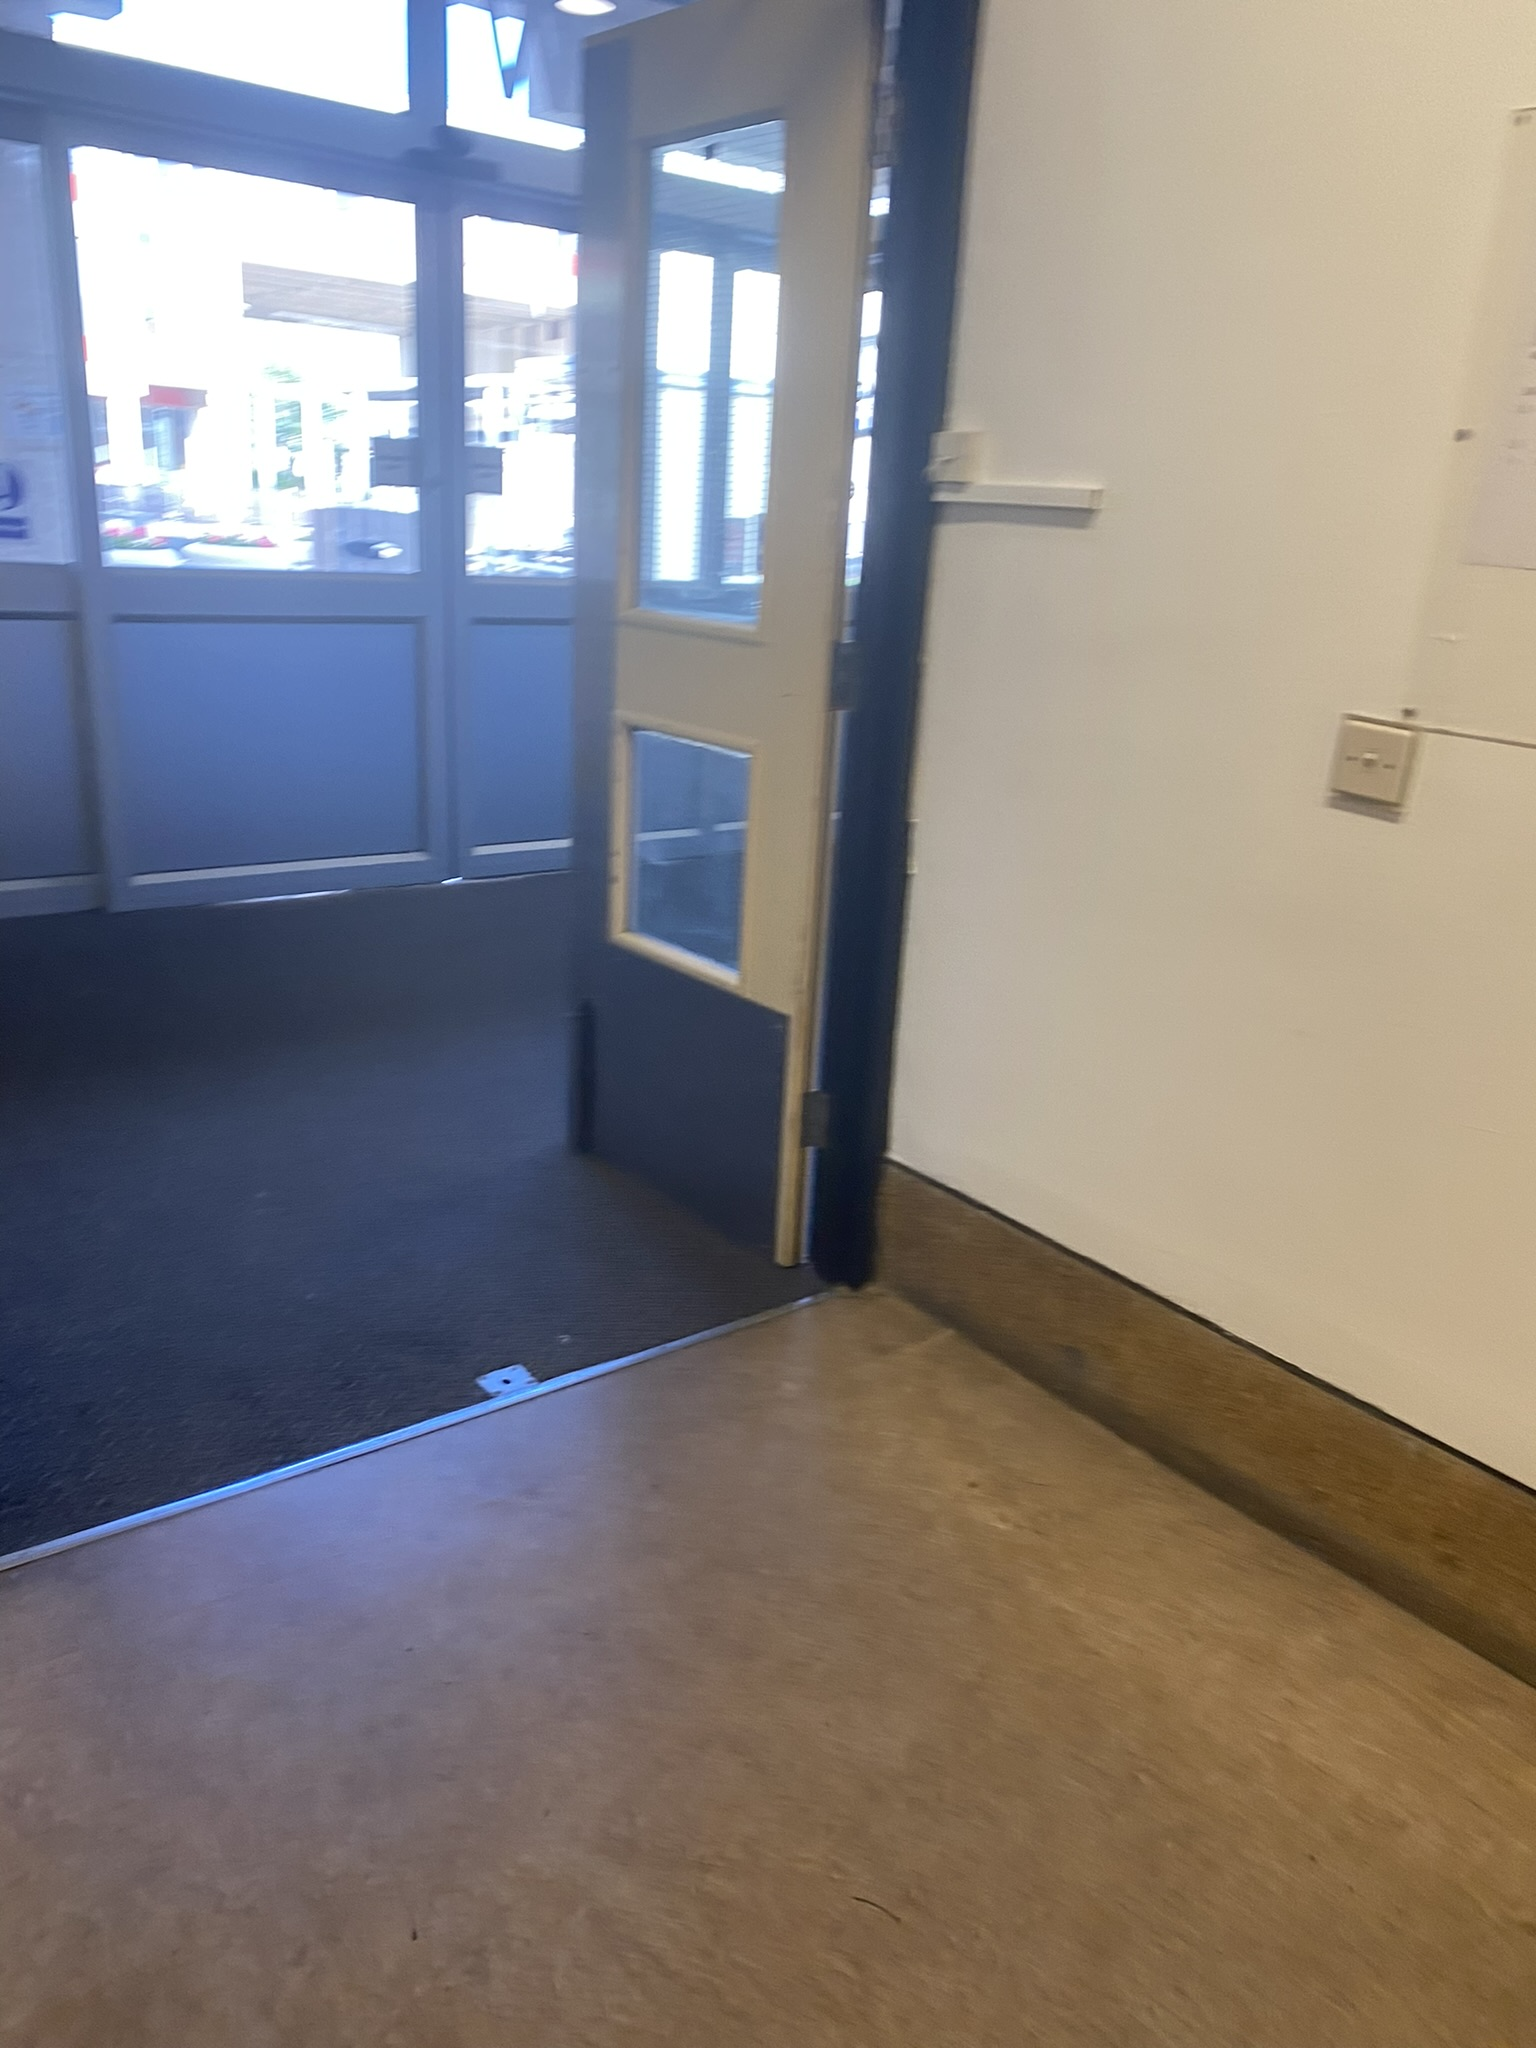automatic door: (53, 65, 892, 905)
